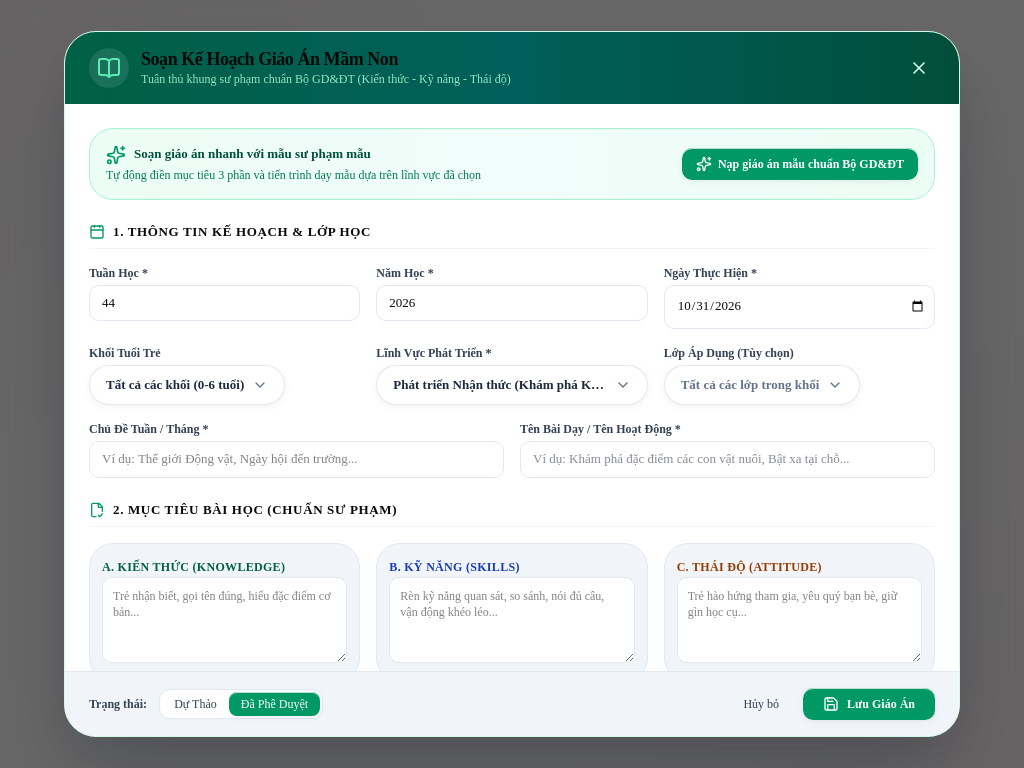
LessonPlanEditorModal Component › renders create modal and applies sample template on button click
The width and height of the screenshot is (1024, 768).
Check: the heading "Soạn Kế Hoạch Giáo Án Mầm Non" is shown, box [141, 49, 398, 69]
What coordinates should you click on to do the following:
click the button "Nạp giáo án mẫu chuẩn Bộ GD&ĐT"
I would click on:
 (800, 164)
Its box is [682, 148, 918, 180].
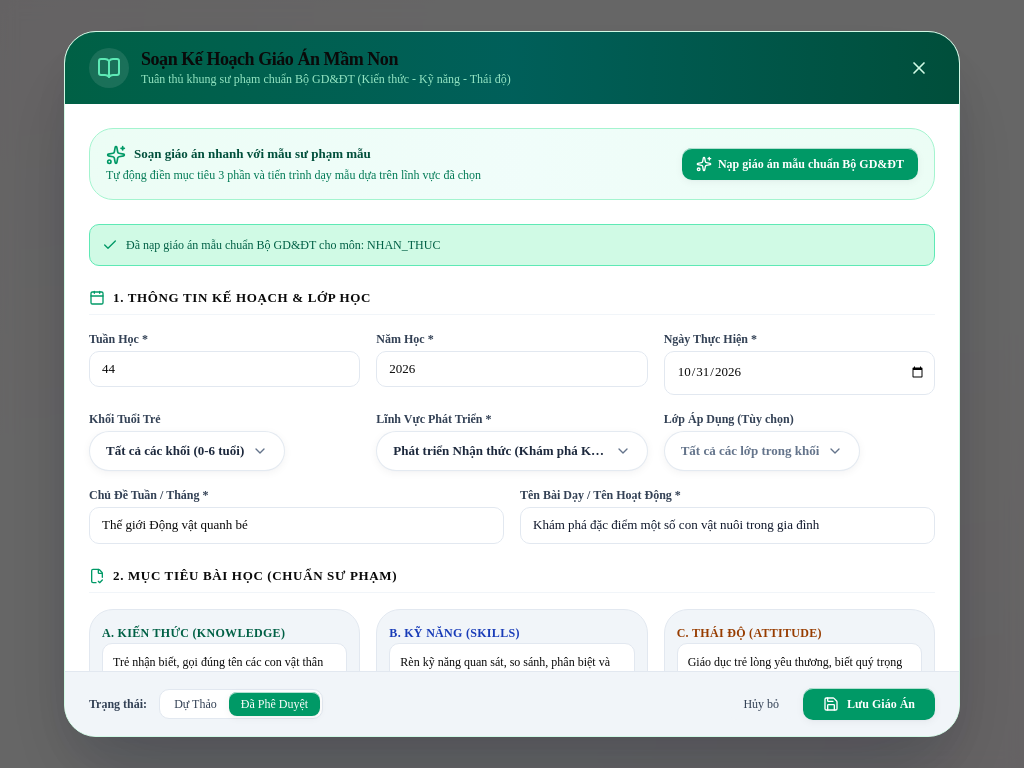
Check: the field showing "Khám phá đặc điểm một số con vật nuôi trong gia đình" below "Tên Bài Dạy / Tên Hoạt Động *" is shown, box [520, 507, 935, 544]
Check: the field showing "Thế giới Động vật quanh bé" below "Chủ Đề Tuần / Tháng *" is shown, box [89, 507, 504, 544]
Check: the text "Đã nạp giáo án mẫu chuẩn Bộ GD&ĐT cho môn: NHAN_THUC" is shown, box [126, 237, 440, 253]
